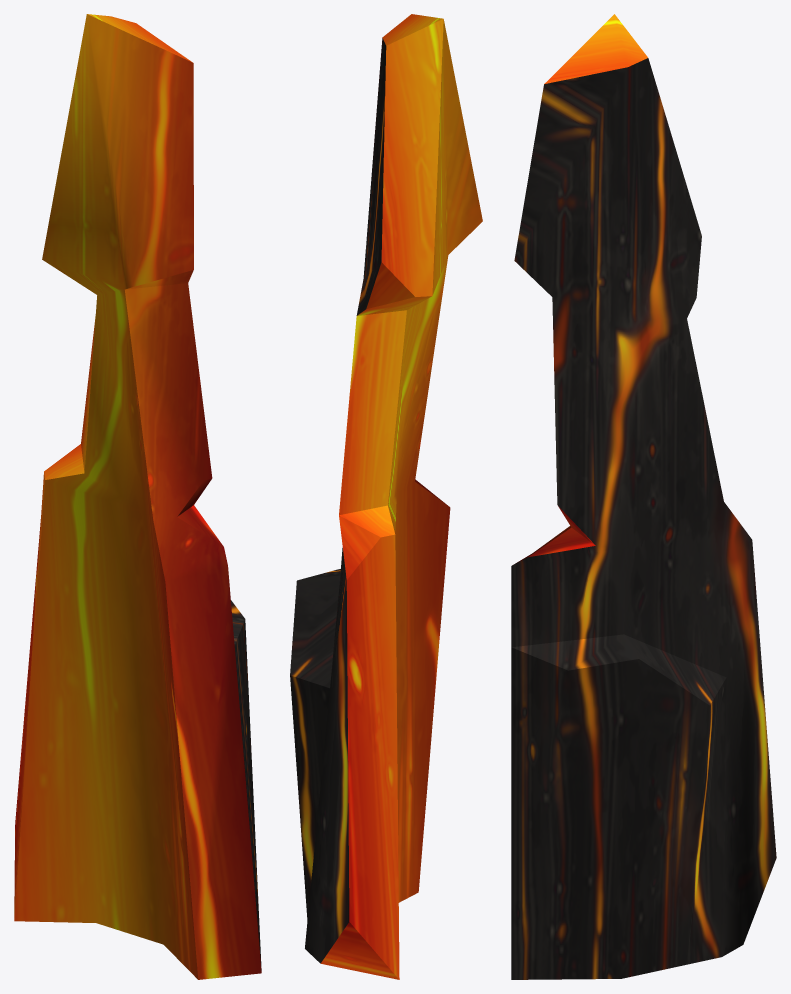
Rendered from p_mesh_hvs_burntforest_bark_part05.fbx.
3 renders of one model, left to right at view 1: azimuth 30°, elevation 25°; view 2: azimuth 150°, elevation 25°; view 3: azimuth 270°, elevation 25°, orthographic. The views are drawn at different scales.
Parts seen in each view (by area): view 1: p_mesh_hvs_burntforest_bark_part05; view 2: p_mesh_hvs_burntforest_bark_part05; view 3: p_mesh_hvs_burntforest_bark_part05.
Part boxes in pixels (x1,y1,x2,y2): p_mesh_hvs_burntforest_bark_part05: (14, 14, 261, 979); p_mesh_hvs_burntforest_bark_part05: (290, 14, 482, 979); p_mesh_hvs_burntforest_bark_part05: (511, 14, 776, 979).
Size of the model in its own units: 0.8659 by 5.06 by 1.33.
Materials: 1 (1 with a texture image).
